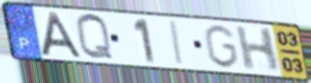1: (132, 17, 158, 65)
A: (39, 11, 85, 60)
G: (202, 23, 240, 70)
H: (233, 25, 281, 73)
I: (169, 19, 186, 67)
Q: (74, 12, 116, 62)
